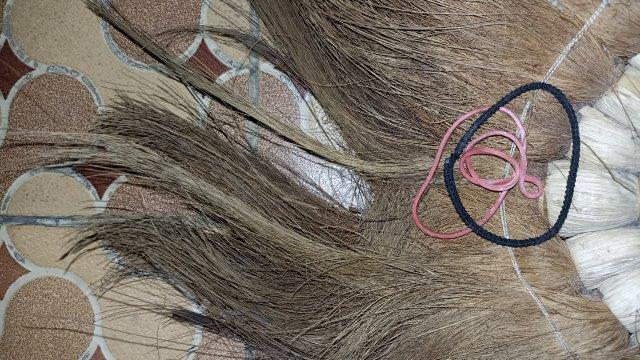karet: (413, 82, 582, 248)
